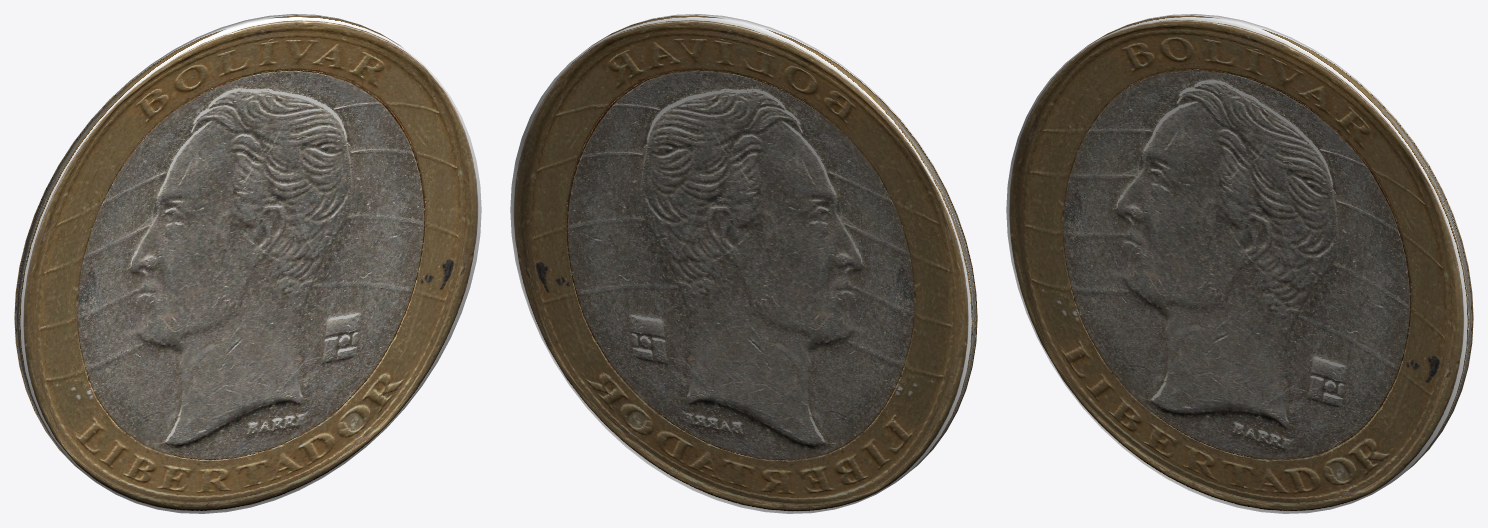
The model's file is moneda01.glb.
3 renders of one model, left to right at view 1: azimuth 30°, elevation 25°; view 2: azimuth 150°, elevation 25°; view 3: azimuth 330°, elevation 25°, orthographic.
Visible parts, largest first — view 1: Cylinder; view 2: Cylinder; view 3: Cylinder.
Part boxes in pixels (x1,y1,x2,y2): Cylinder: (14,14,481,513); Cylinder: (510,14,977,513); Cylinder: (1006,14,1473,513).
Size of the model in its own units: 2 by 2 by 0.046.
1 material, 1 textured.
